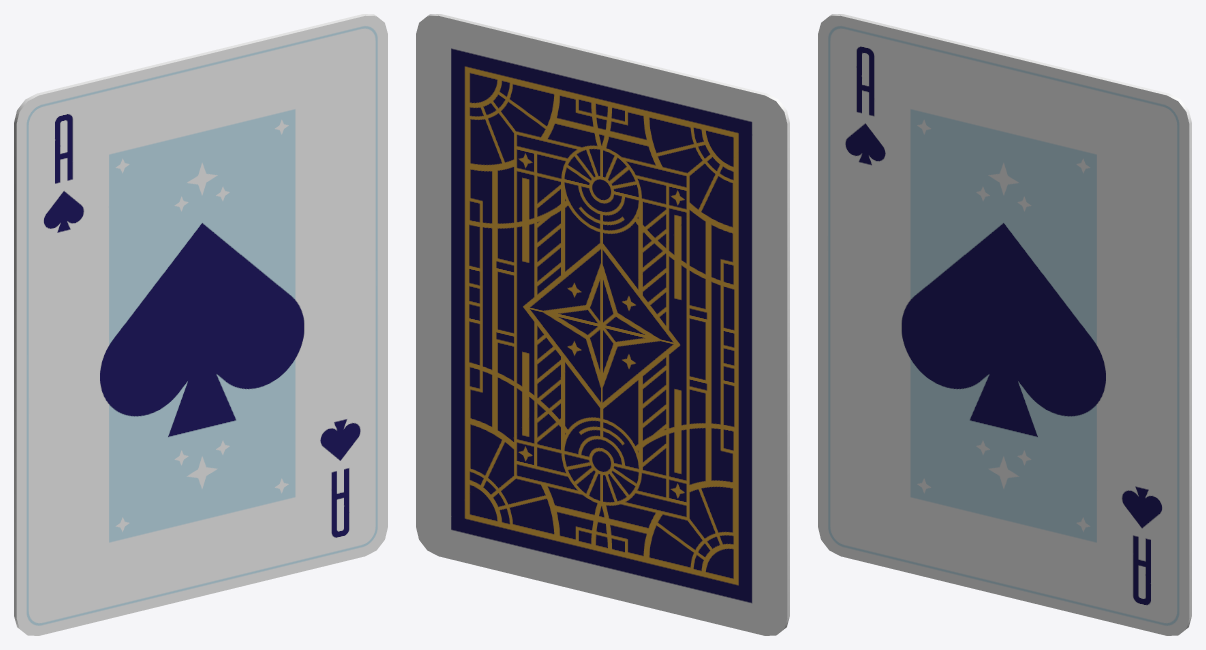
File: card_spades_ace.glb
3 views of the same model, side by side, from view 1: azimuth 30°, elevation 25°; view 2: azimuth 150°, elevation 25°; view 3: azimuth 330°, elevation 25° (orthographic).
Parts seen in each view (by area): view 1: card_spades_ace; view 2: card_spades_ace; view 3: card_spades_ace.
Boxes of the visible parts, x1,y1,x2,y2 form: card_spades_ace: (14,14,387,635); card_spades_ace: (416,14,789,635); card_spades_ace: (818,14,1191,635).
Bounding box in the file's own units: 4.31 × 6 × 0.05.
Materials: 2 (2 with a texture image).
